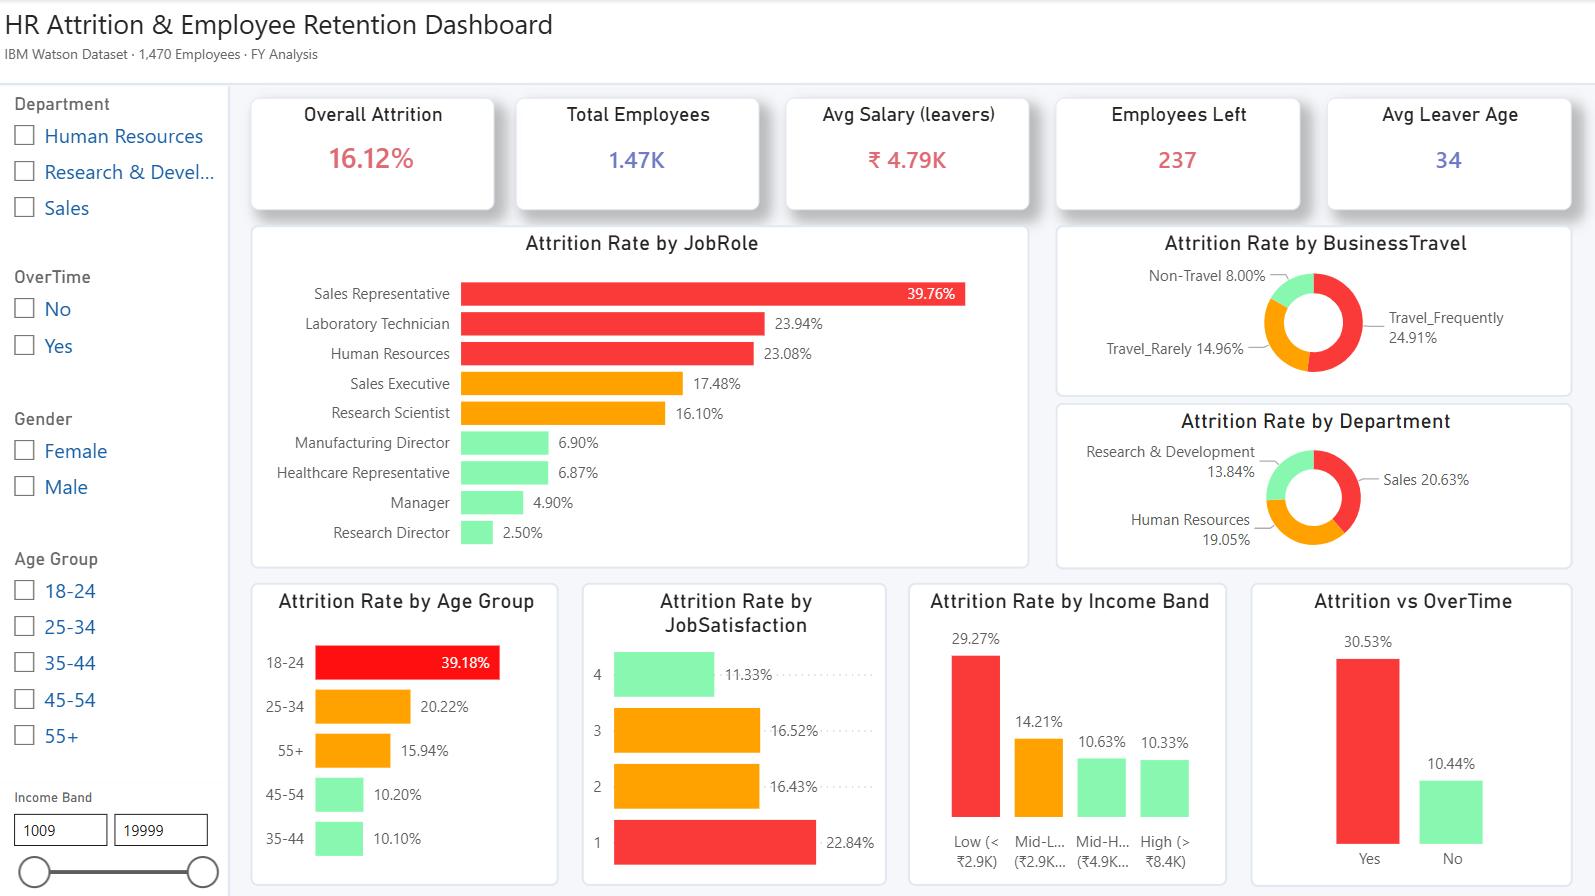

The page's visual inventory and layout, read from the dashboard file:
{"tool":"powerbi","page":{"name":"Dashboard","canvas":[1280,720],"ordinal":0},"visuals":[{"type":"textbox","box":[0,0,1280.2,69.8],"z":0},{"type":"cardVisual","title":"Total Employees","fields":{"Data":["CountNonNull(WA_Fn-UseC_-HR-Employee-Attrition.Employee_ID)"]},"box":[412.8,79.1,194.2,89.5],"z":1000},{"type":"cardVisual","title":"Avg Salary (leavers)","fields":{"Data":["WA_Fn-UseC_-HR-Employee-Attrition.Avg Salary of leavers"]},"box":[627.9,79.1,194.2,89.5],"z":2000},{"type":"slicer","fields":{"Values":["WA_Fn-UseC_-HR-Employee-Attrition.Department"]},"box":[0,69.8,183.7,138.4],"z":3000},{"type":"slicer","fields":{"Values":["WA_Fn-UseC_-HR-Employee-Attrition.OverTime"]},"box":[0,208.1,183.7,112.8],"z":4000},{"type":"cardVisual","title":"Employees Left","fields":{"Data":["WA_Fn-UseC_-HR-Employee-Attrition.EmployeesLEFT"]},"box":[843,79.1,195.3,89.5],"z":5000},{"type":"cardVisual","title":"Avg Leaver Age","fields":{"Data":["WA_Fn-UseC_-HR-Employee-Attrition.Avg Leaver age"]},"box":[1059.3,79.1,195.3,89.5],"z":6000},{"type":"slicer","fields":{"Values":["WA_Fn-UseC_-HR-Employee-Attrition.Gender"]},"box":[0,320.9,183.7,111.6],"z":7000},{"type":"slicer","fields":{"Values":["WA_Fn-UseC_-HR-Employee-Attrition.Age Group"]},"box":[0,432.6,183.7,191.9],"z":8000},{"type":"slicer","fields":{"Values":["WA_Fn-UseC_-HR-Employee-Attrition.MonthlyIncome"]},"box":[0,624.4,183.7,95.3],"z":9000},{"type":"cardVisual","title":"Overall Attrition ","fields":{"Data":["WA_Fn-UseC_-HR-Employee-Attrition.Attrition Rate %"]},"box":[201.2,79.1,194.2,89.5],"z":10000},{"type":"shape","box":[170.9,69.8,25.6,650],"z":11000},{"type":"shape","box":[0,57,1280.2,22.1],"z":12000},{"type":"clusteredBarChart","fields":{"Category":["WA_Fn-UseC_-HR-Employee-Attrition.JobRole"],"Y":["WA_Fn-UseC_-HR-Employee-Attrition.Attrition Rate %"]},"box":[201.2,180.2,620.9,273.3],"z":13000},{"type":"clusteredBarChart","fields":{"Y":["WA_Fn-UseC_-HR-Employee-Attrition.Attrition Rate %"],"Category":["WA_Fn-UseC_-HR-Employee-Attrition.Age Group"]},"box":[201.2,465.1,245.3,241.9],"z":14000},{"type":"donutChart","fields":{"Category":["WA_Fn-UseC_-HR-Employee-Attrition.BusinessTravel"],"Y":["WA_Fn-UseC_-HR-Employee-Attrition.Attrition Rate %"]},"box":[842.9,180.7,411.7,136.5],"z":15000},{"type":"columnChart","title":"Attrition vs OverTime","fields":{"Category":["WA_Fn-UseC_-HR-Employee-Attrition.OverTime"],"Y":["WA_Fn-UseC_-HR-Employee-Attrition.Attrition Rate %"]},"box":[997.9,465.1,256.7,242.3],"z":16000},{"type":"barChart","fields":{"Category":["WA_Fn-UseC_-HR-Employee-Attrition.JobSatisfaction"],"Y":["WA_Fn-UseC_-HR-Employee-Attrition.Attrition Rate %"]},"box":[465.1,465.1,243,241.9],"z":17000},{"type":"columnChart","fields":{"Category":["WA_Fn-UseC_-HR-Employee-Attrition.Income Band"],"Y":["WA_Fn-UseC_-HR-Employee-Attrition.Attrition Rate %"]},"box":[725.6,465.1,254.7,241.9],"z":18000},{"type":"donutChart","fields":{"Y":["WA_Fn-UseC_-HR-Employee-Attrition.Attrition Rate %"],"Category":["WA_Fn-UseC_-HR-Employee-Attrition.Department"]},"box":[842.9,321.3,411.7,132.4],"z":19000}]}

Visuals, with their boxes in screenshot pixels (x1, y1, x2, y2), scaled from the page's 1280x720 canvas onto the 1595x896 screenshot:
textbox: crop(0, 0, 1594, 87)
"Total Employees" cardVisual: crop(514, 98, 756, 210)
"Avg Salary (leavers)" cardVisual: crop(782, 98, 1024, 210)
slicer - WA_Fn-UseC_-HR-Employee-Attrition.Department: crop(0, 87, 229, 259)
slicer - WA_Fn-UseC_-HR-Employee-Attrition.OverTime: crop(0, 259, 229, 399)
"Employees Left" cardVisual: crop(1050, 98, 1294, 210)
"Avg Leaver Age" cardVisual: crop(1320, 98, 1563, 210)
slicer - WA_Fn-UseC_-HR-Employee-Attrition.Gender: crop(0, 399, 229, 538)
slicer - WA_Fn-UseC_-HR-Employee-Attrition.Age Group: crop(0, 538, 229, 777)
slicer - WA_Fn-UseC_-HR-Employee-Attrition.MonthlyIncome: crop(0, 777, 229, 895)
"Overall Attrition " cardVisual: crop(251, 98, 493, 210)
shape: crop(213, 87, 245, 895)
shape: crop(0, 71, 1594, 98)
clusteredBarChart - WA_Fn-UseC_-HR-Employee-Attrition.JobRole x WA_Fn-UseC_-HR-Employee-Attrition.Attrition Rate %: crop(251, 224, 1024, 564)
clusteredBarChart - WA_Fn-UseC_-HR-Employee-Attrition.Attrition Rate % x WA_Fn-UseC_-HR-Employee-Attrition.Age Group: crop(251, 579, 556, 880)
donutChart - WA_Fn-UseC_-HR-Employee-Attrition.BusinessTravel x WA_Fn-UseC_-HR-Employee-Attrition.Attrition Rate %: crop(1050, 225, 1563, 395)
"Attrition vs OverTime" columnChart: crop(1243, 579, 1563, 880)
barChart - WA_Fn-UseC_-HR-Employee-Attrition.JobSatisfaction x WA_Fn-UseC_-HR-Employee-Attrition.Attrition Rate %: crop(580, 579, 882, 880)
columnChart - WA_Fn-UseC_-HR-Employee-Attrition.Income Band x WA_Fn-UseC_-HR-Employee-Attrition.Attrition Rate %: crop(904, 579, 1222, 880)
donutChart - WA_Fn-UseC_-HR-Employee-Attrition.Attrition Rate % x WA_Fn-UseC_-HR-Employee-Attrition.Department: crop(1050, 400, 1563, 565)
